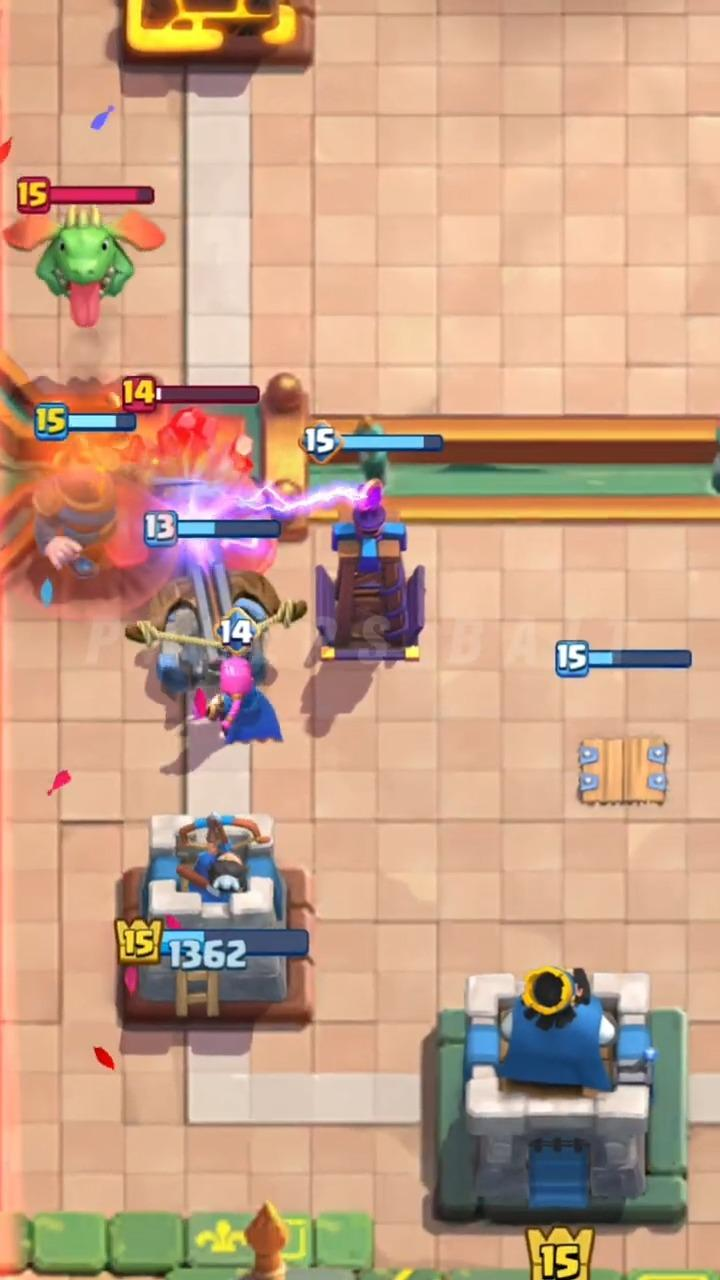archer: (206, 657, 283, 744)
baby dragon: (4, 202, 165, 328)
knight: (35, 470, 123, 578)
tesla: (315, 482, 424, 663), (578, 738, 668, 804)
x-bow: (126, 549, 283, 697)
